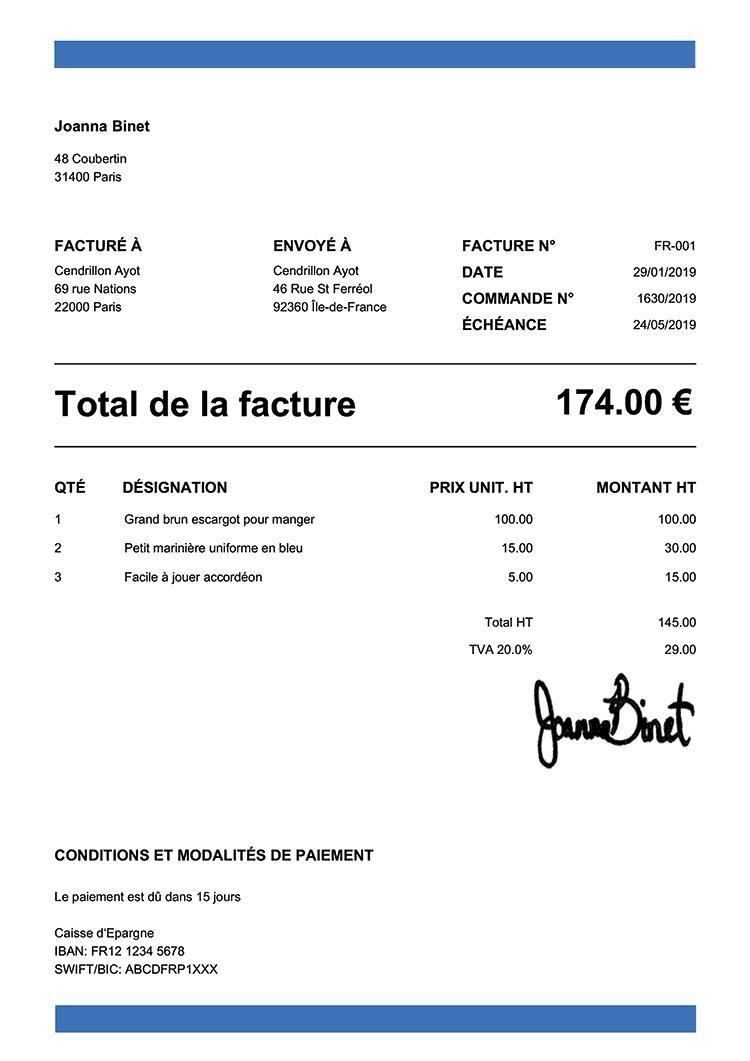ROI: (26, 461, 715, 598), (40, 837, 384, 982), (445, 231, 709, 346), (447, 608, 718, 682), (38, 107, 179, 191), (43, 227, 163, 323)
